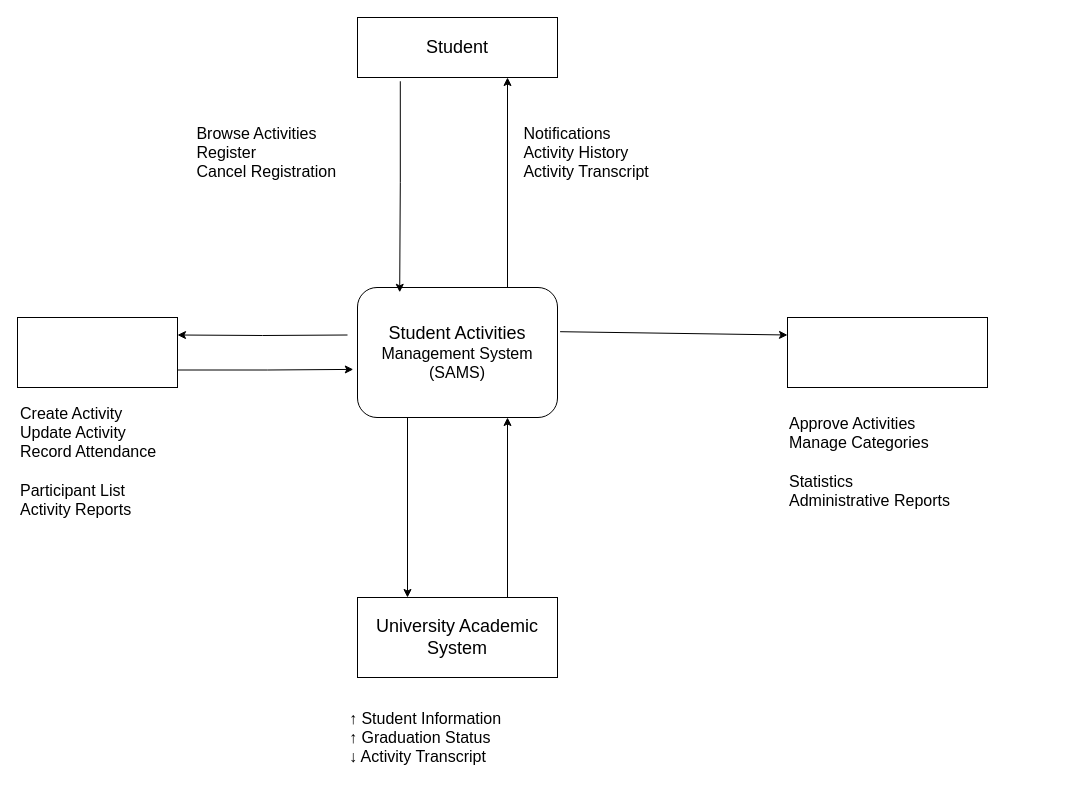
Image size: 1065x795. Some labels were removed from this diagram. Each missing label, with the centre of its shape:
"Activity Organizer" goes at [97,352].
"Student Affairs Department" goes at [887,352].
